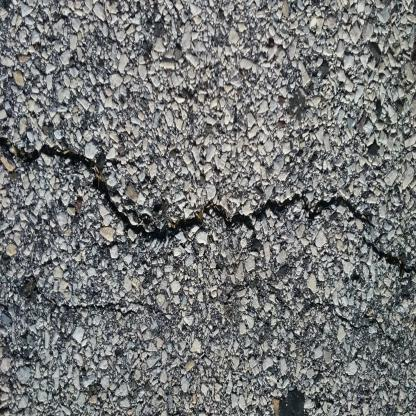Cracks: (0, 129, 415, 279)
